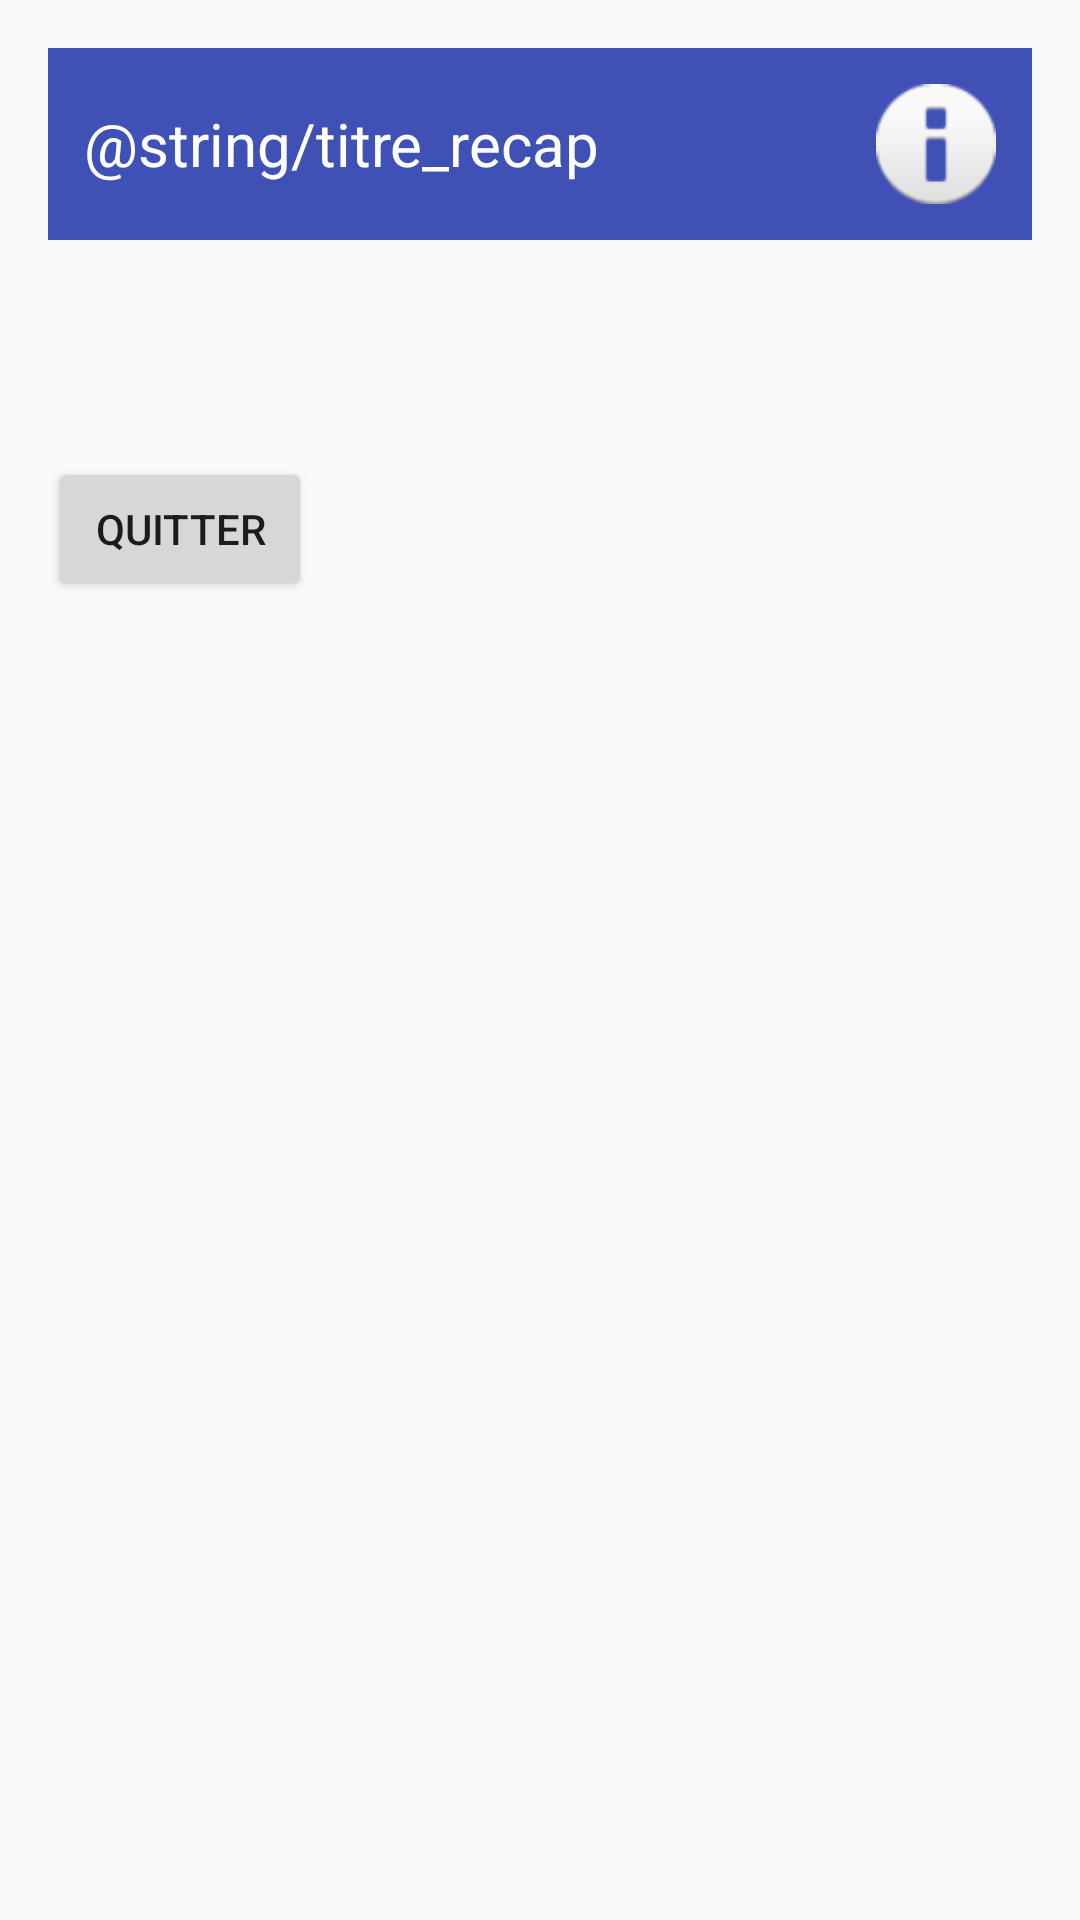

Point at icon controls on the screen. Image size 1080 × 1920, points as point (x, y).
info: point (936, 144)
